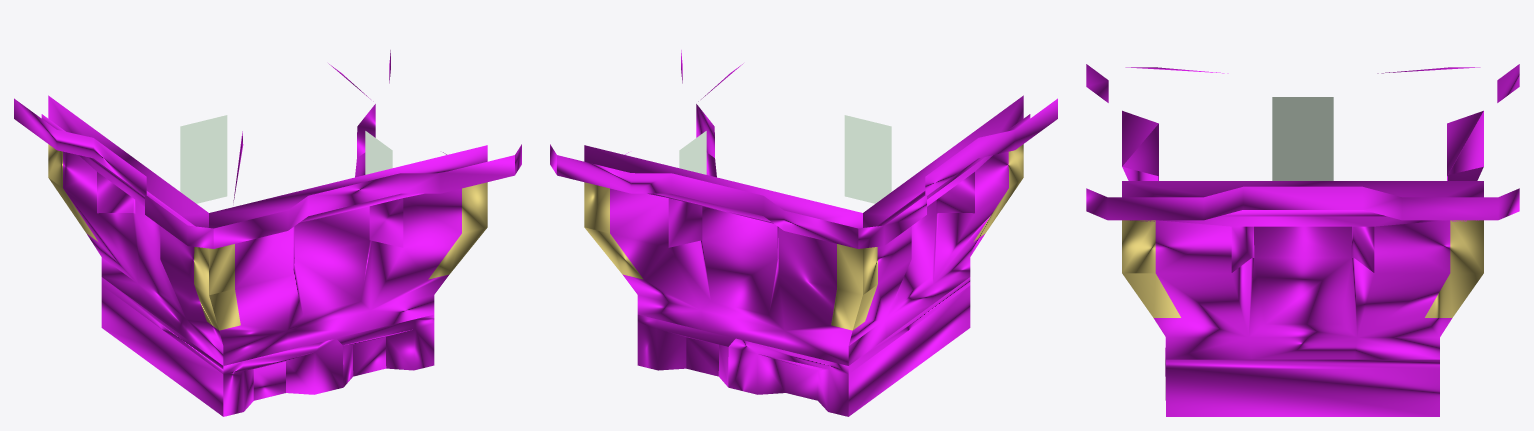
The model's file is roomlg_b_addon_heavy_support_socket_01x01x01_lod1.glb.
3 renders of one model, left to right at view 1: azimuth 30°, elevation 25°; view 2: azimuth 150°, elevation 25°; view 3: azimuth 270°, elevation 25°, orthographic. The views are drawn at different scales.
Bounding box in the file's own units: 1.2 × 0.7767 × 1.2.
